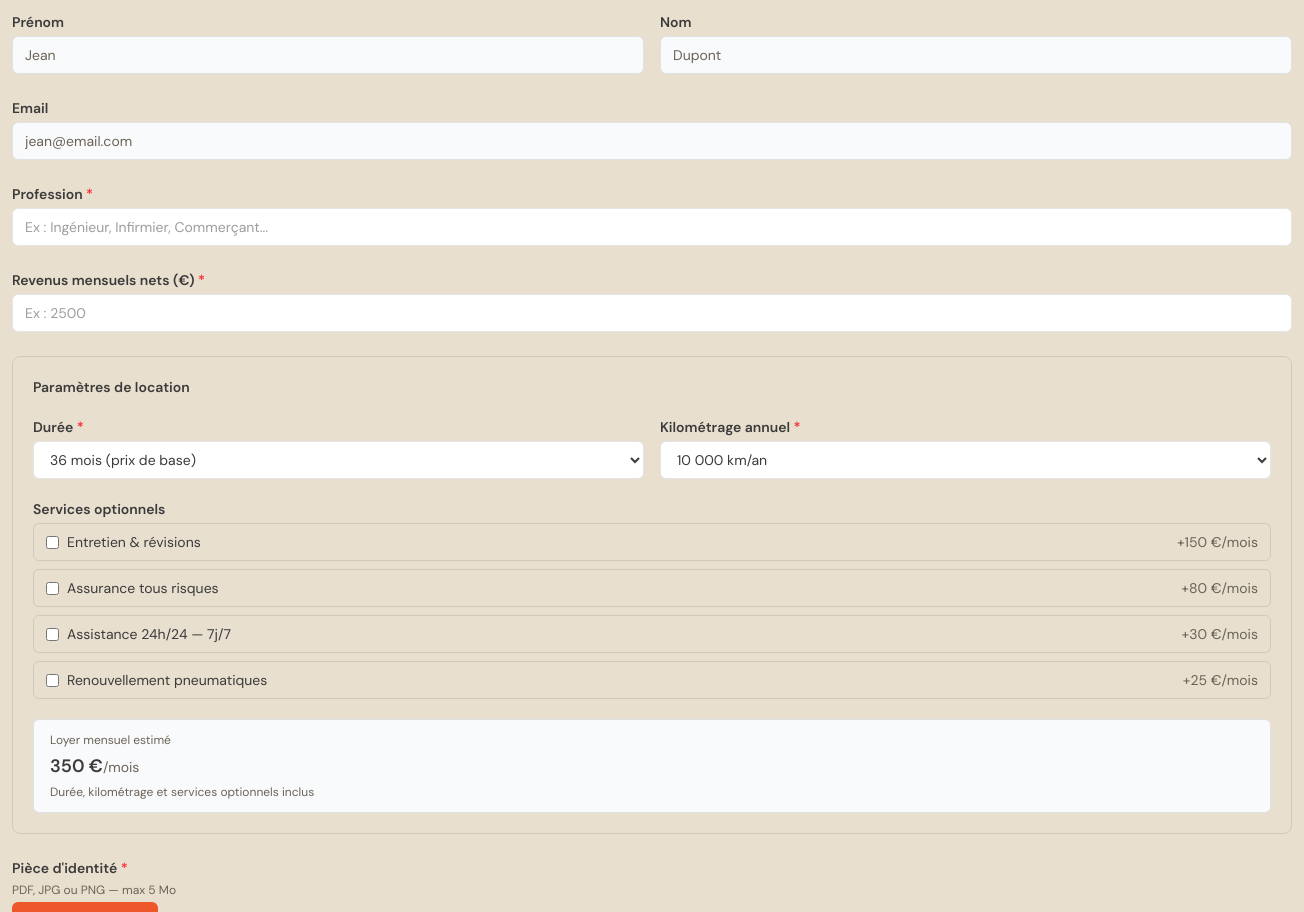
Scenario: SubmissionForm › met à jour le loyer quand la durée change
Select "24 mois (+10%)" in the dropdown labelled "Durée *" at (338, 460), box [33, 441, 644, 479]
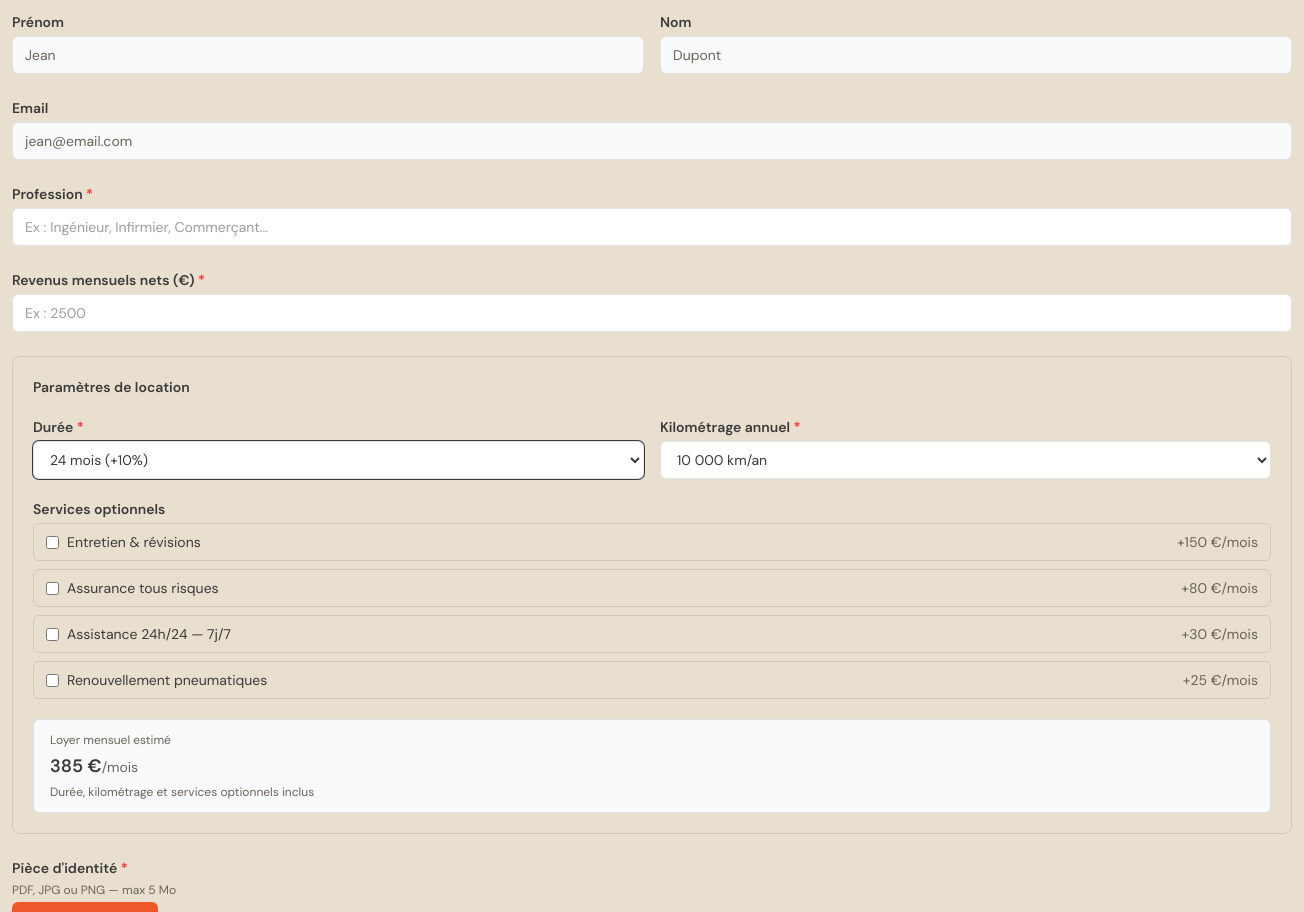
Check: the text "385 €/mois" is shown, box [50, 754, 138, 778]
